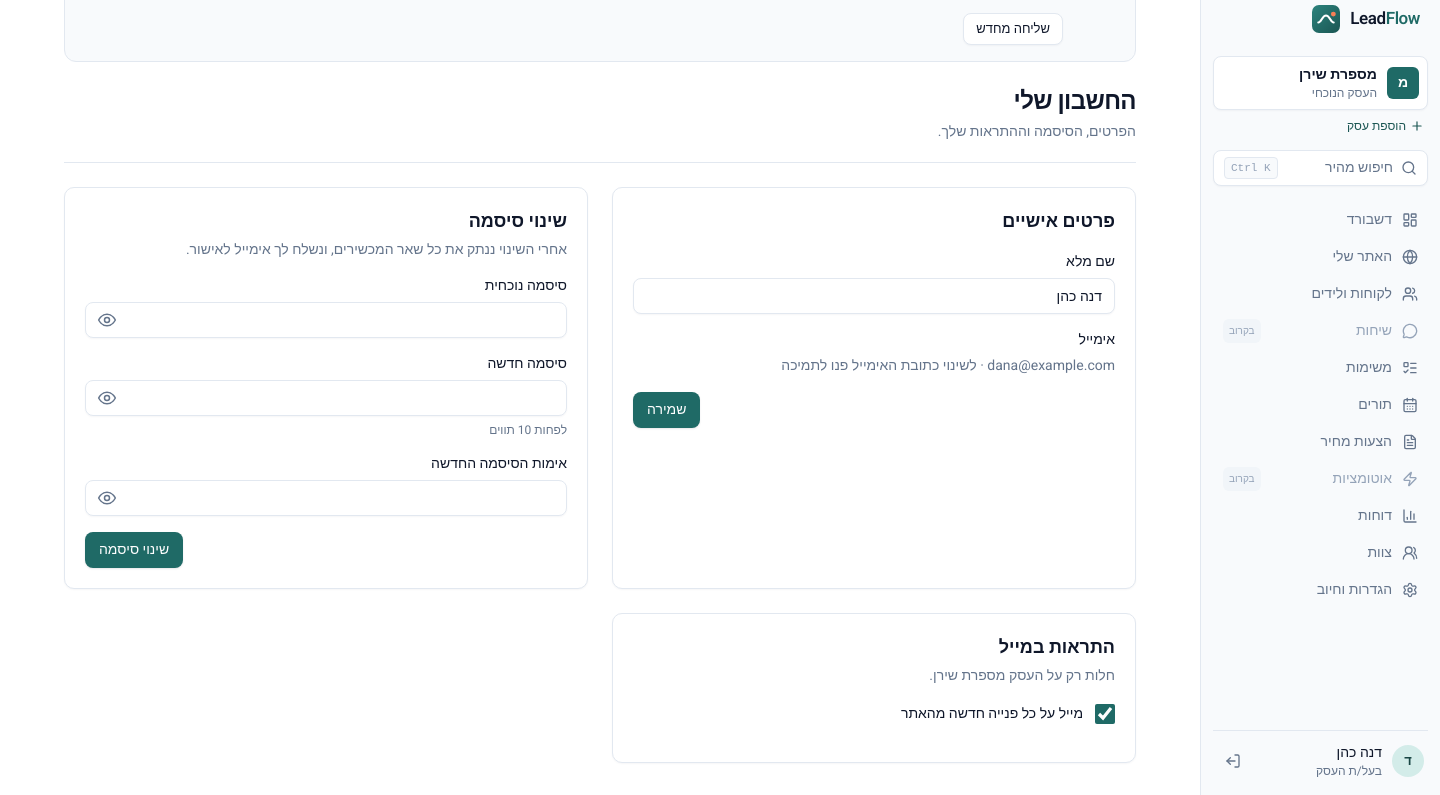
account page › owners and managers can turn off new-lead emails
The image size is (1440, 795).
(page scrolled)
Click the checkbox labelled "מייל על כל פנייה חדשה מהאתר" at point(1105, 714), box 1095,704 -> 1115,724
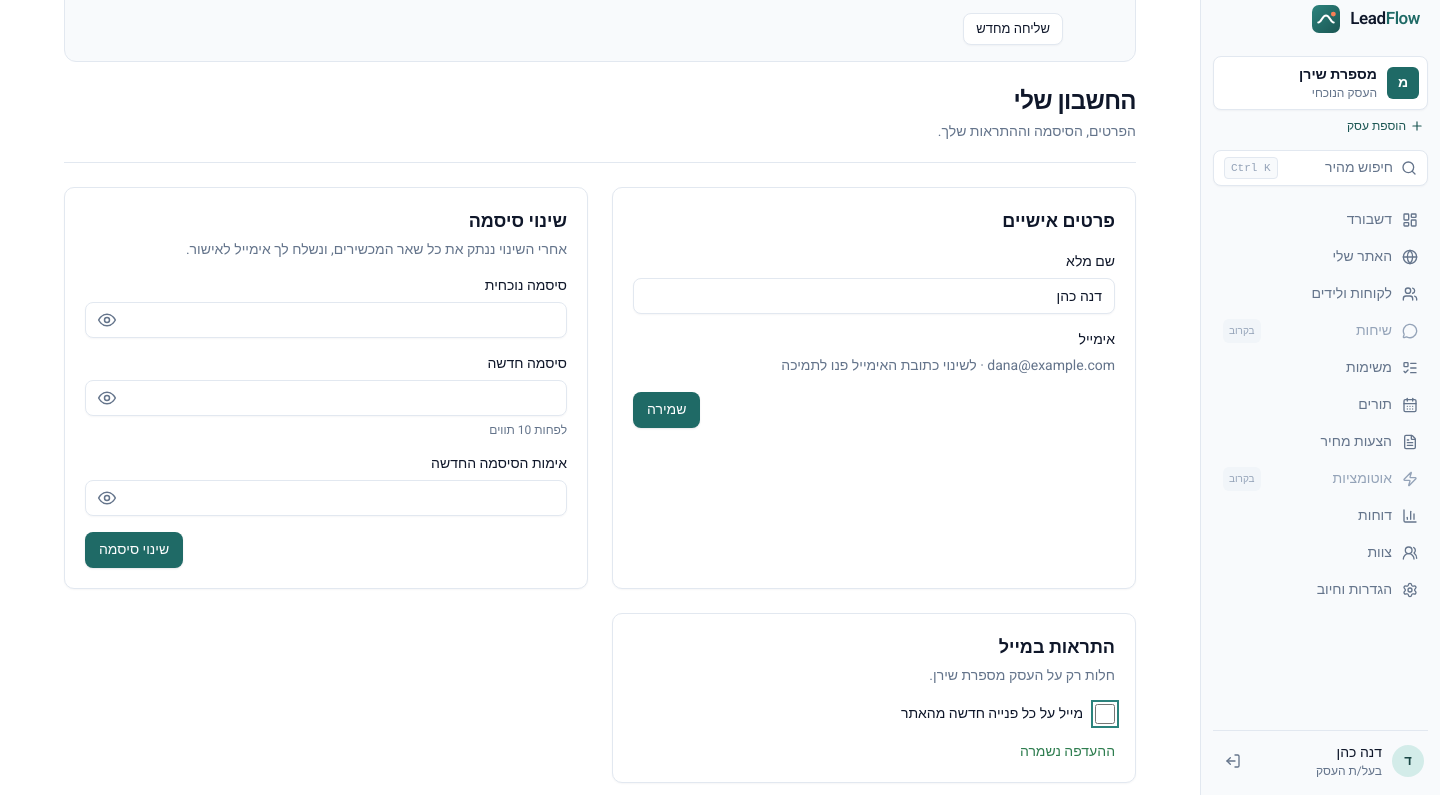
Expected: the checkbox labelled "מייל על כל פנייה חדשה מהאתר" is not checked, 1095,704 -> 1115,724
Expected: the text "ההעדפה נשמרה" is shown, 1020,741 -> 1115,762
